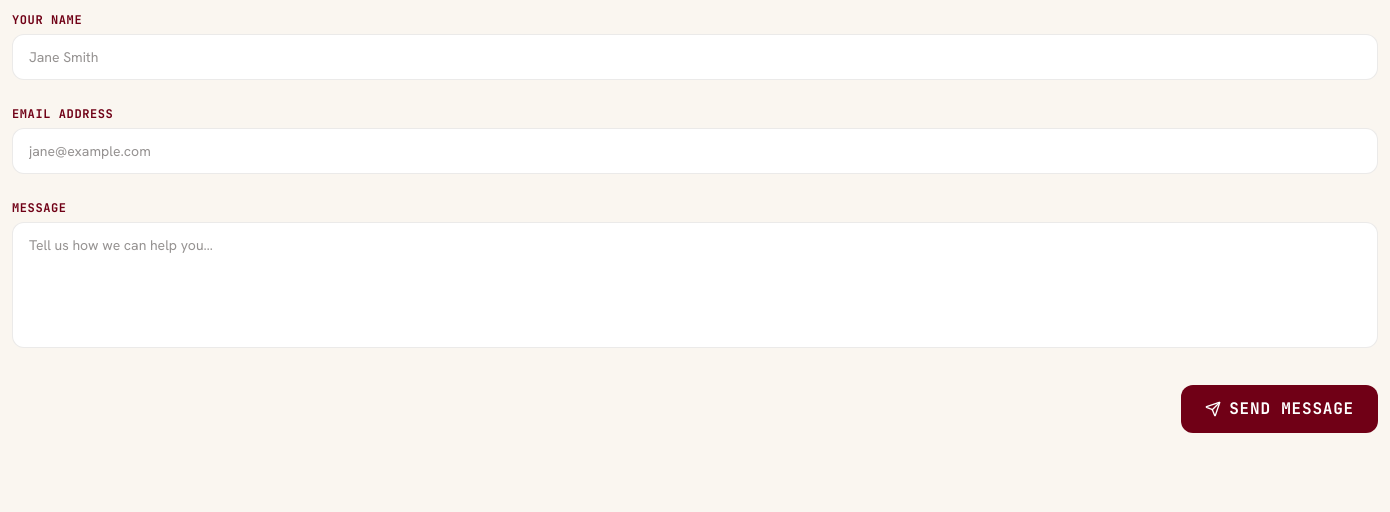
Test: ContactForm — accessibility › submitting an empty form shows all three inline validation error messages
Step 1. Click the button "Send Message" → (1280, 409), box [1181, 385, 1378, 433]
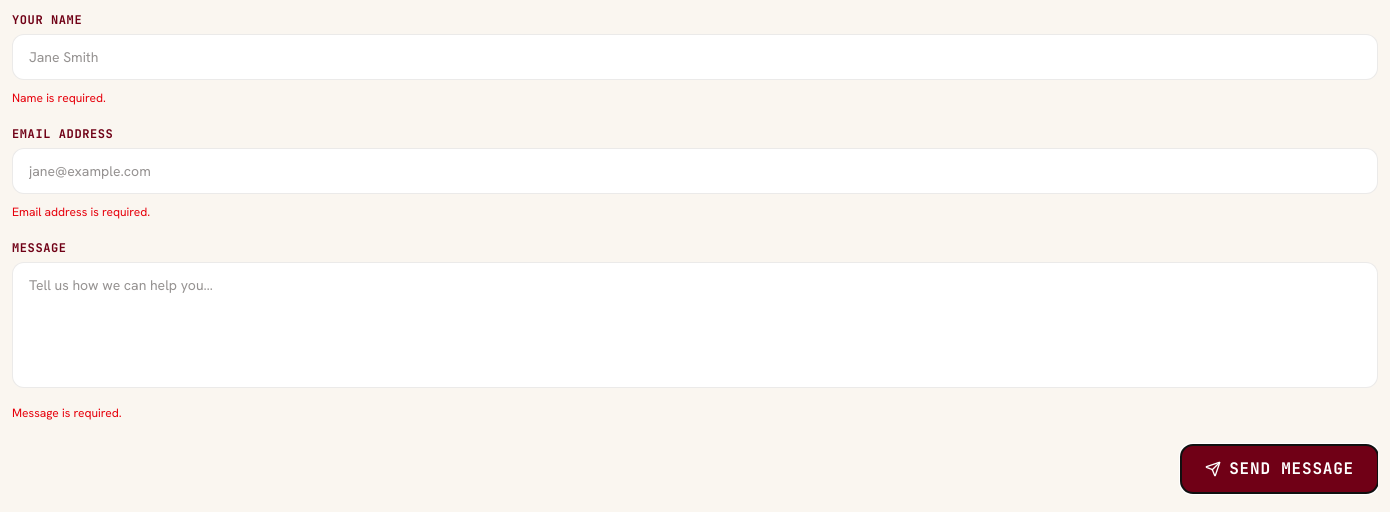
Expected: the text "Name is required." is shown, [12, 90, 106, 106]
Expected: the text "Email address is required." is shown, [12, 204, 150, 220]
Expected: the text "Message is required." is shown, [12, 405, 122, 421]
